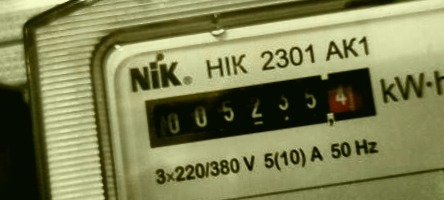0: (164, 108, 182, 135), (191, 103, 209, 129)
2: (245, 92, 264, 120)
3: (272, 86, 292, 112)
4: (329, 78, 351, 109)
5: (299, 81, 319, 111), (219, 97, 236, 123)
screen: (129, 55, 386, 158)
